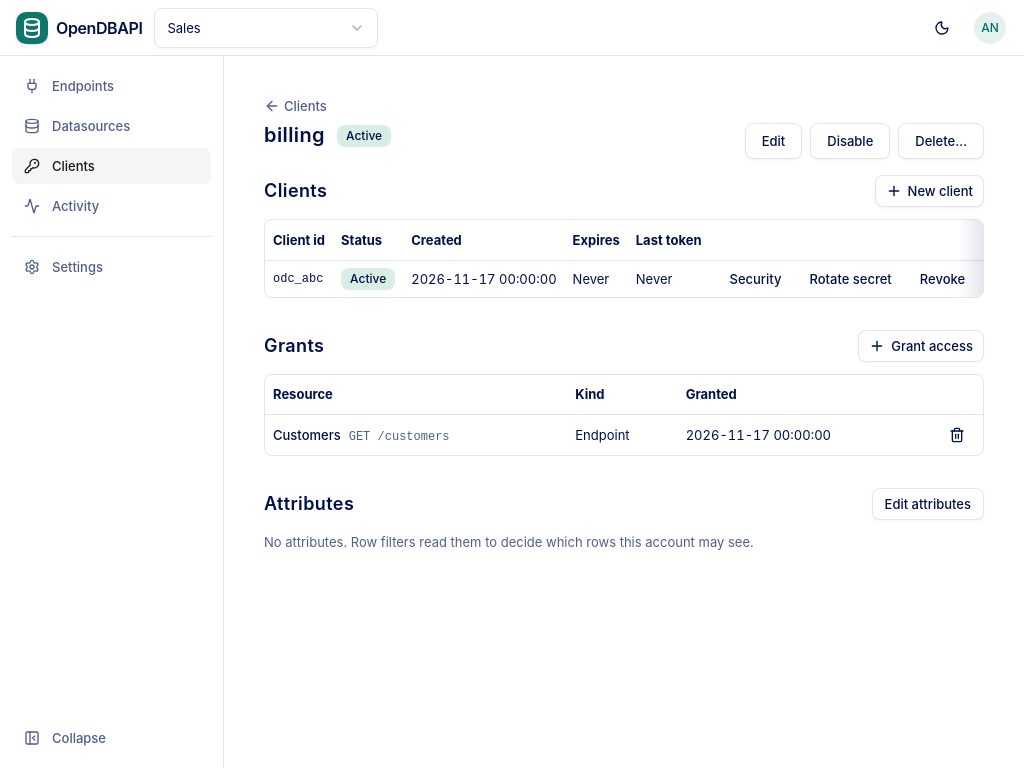
Clients › rotates a client's secret after confirmation and shows the new one once
The image size is (1024, 768).
Click the button "Rotate secret" at point(851, 278), box [797,262,904,294]
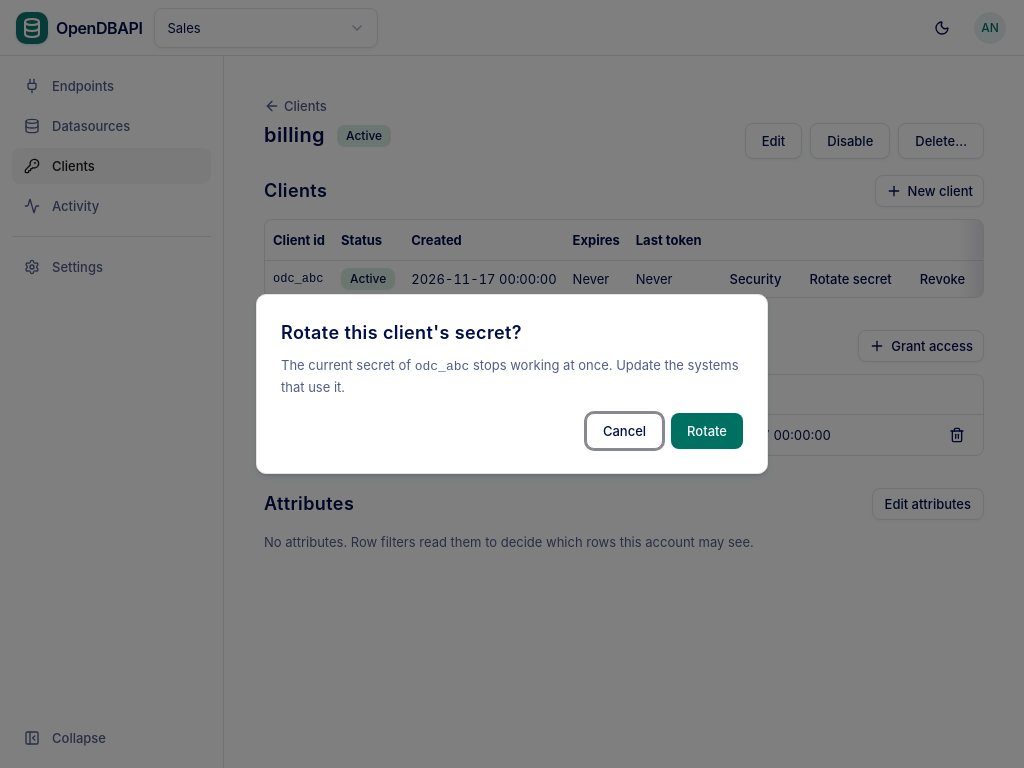
Click the button "Rotate" at point(707, 431), box [671,413,743,449]
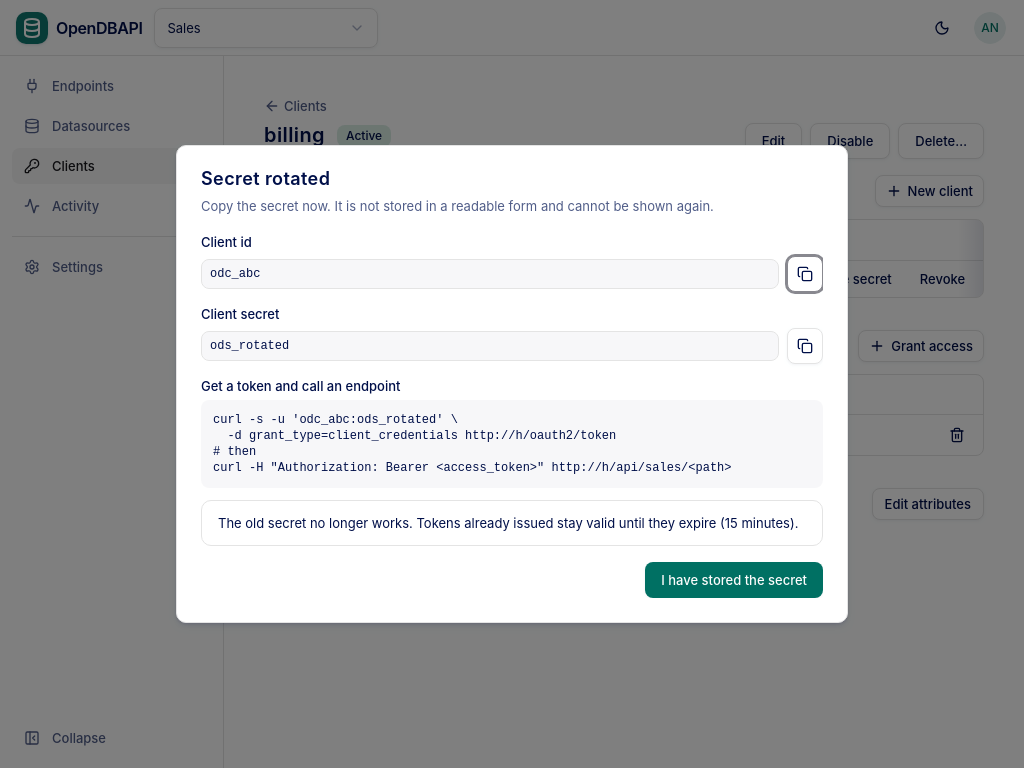
Check: the text "ods_rotated" is shown, box [201,331,779,361]
Check: the text "old secret no longer works" is shown, box [218,515,798,531]
